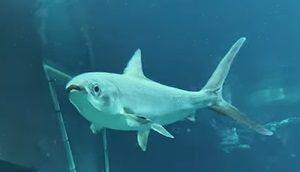Bangus: (65, 37, 275, 152)
